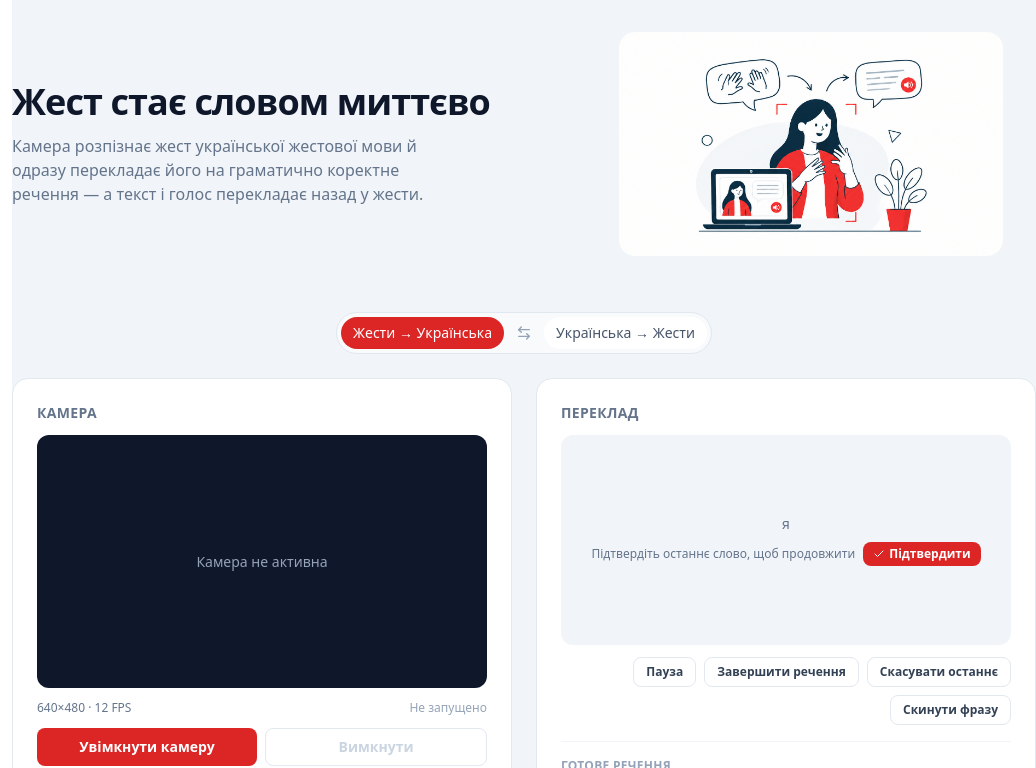
Test case: TranslatorView › shows an AI-composed badge only when the backend says composed_text_source is ai_fallback, never for rule_based
This screenshot has width=1036, height=768.
Expected: the element with test id "live-sentence-status" shows "я", [782,514,790,533]
Click the button "Завершити речення" at x=782, y=672, box [704,657,859,687]
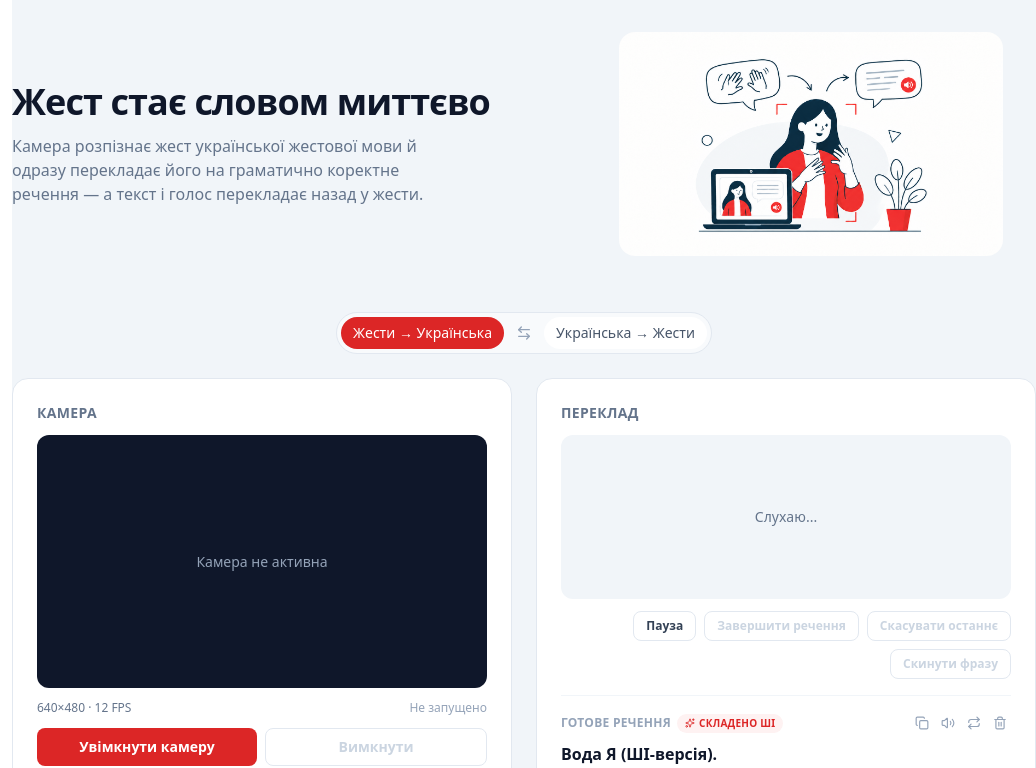
Now the element with test id "final-translation" shows "Вода Я (ШІ-версія).", box [561,743,717,765]
Now the element with test id "ai-composed-badge" is shown, box [677,714,783,733]
